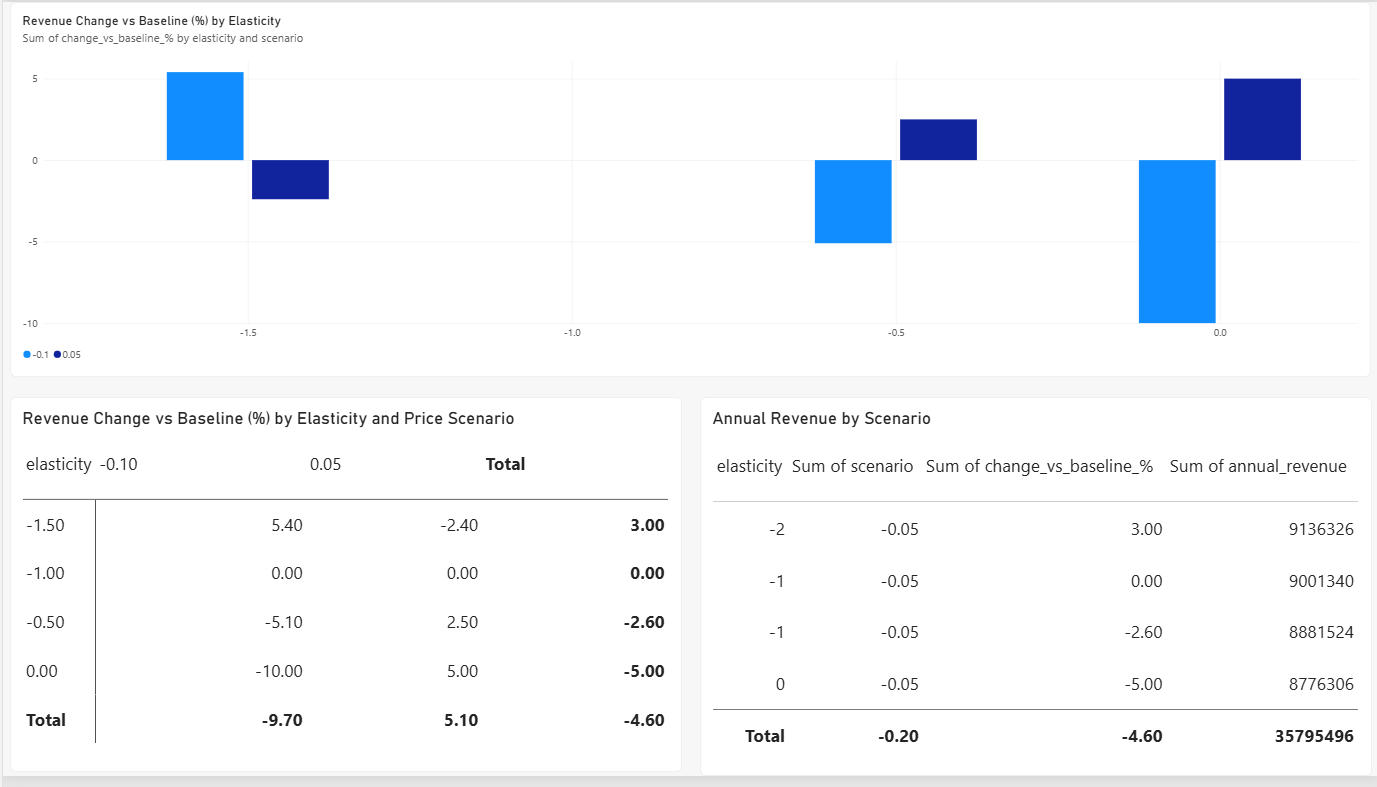

The dashboard page shown, as its layout file describes it:
{"tool":"powerbi","page":{"name":"Price Scenarios","canvas":[1920,1080],"ordinal":2},"visuals":[{"type":"pivotTable","title":"Revenue Change vs Baseline (%) by Elasticity and Price Scenario","fields":{"Columns":["price_scenarios.scenario"],"Rows":["price_scenarios.elasticity"],"Values":["Sum(price_scenarios.change_vs_baseline_%)"]},"box":[10.5,551.2,936.6,523.3],"z":0},{"type":"tableEx","title":"Annual Revenue by Scenario","fields":{"Values":["price_scenarios.elasticity","Sum(price_scenarios.scenario)","Sum(price_scenarios.change_vs_baseline_%)","Sum(price_scenarios.annual_revenue)"]},"box":[973.3,551.2,936.6,528.5],"z":1},{"type":"clusteredColumnChart","title":"Revenue Change vs Baseline (%) by Elasticity","fields":{"Category":["price_scenarios.elasticity"],"Series":["price_scenarios.scenario"],"Y":["Sum(price_scenarios.change_vs_baseline_%)"]},"box":[10.5,0,1897.7,523.3],"z":2}]}

Visuals, with their boxes in screenshot pixels (x1, y1, x2, y2), scaled from the page's 1920x1080 canvas onto the 1377x787 screenshot:
"Revenue Change vs Baseline (%) by Elasticity and Price Scenario" pivotTable: (8, 402, 679, 783)
"Annual Revenue by Scenario" tableEx: (698, 402, 1370, 786)
"Revenue Change vs Baseline (%) by Elasticity" clusteredColumnChart: (8, 0, 1369, 381)
